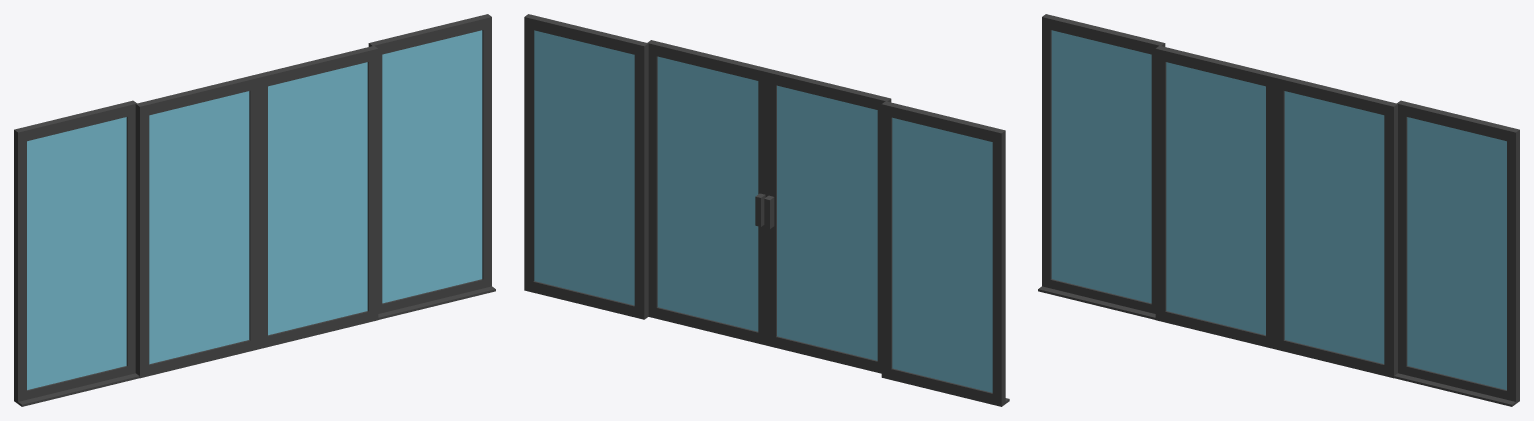
Rendered from SlidingDoorFull.fbx.
The picture shows the model from 3 angles, left to right: view 1: azimuth 30°, elevation 25°; view 2: azimuth 150°, elevation 25°; view 3: azimuth 330°, elevation 25°; orthographic projection.
Parts seen in each view (by area): view 1: Cube.004, Cube.006, Cube.001, Cube.002; view 2: Cube.006, Cube.002, Cube.001, Cube.004; view 3: Cube.001, Cube.002, Cube.004, Cube.006.
Part boxes in pixels (box(x1,y1,x2,y2)): Cube.004: box(135, 75, 258, 378); Cube.006: box(14, 100, 139, 406); Cube.001: box(255, 46, 378, 349); Cube.002: box(368, 14, 495, 319); Cube.006: box(881, 101, 1009, 406); Cube.002: box(524, 14, 648, 319); Cube.001: box(647, 40, 770, 345); Cube.004: box(764, 69, 891, 373); Cube.001: box(1274, 75, 1397, 378); Cube.002: box(1394, 100, 1519, 406); Cube.004: box(1155, 45, 1278, 348); Cube.006: box(1038, 14, 1165, 319).
Size of the model in its own units: 267 by 146 by 8.28.
